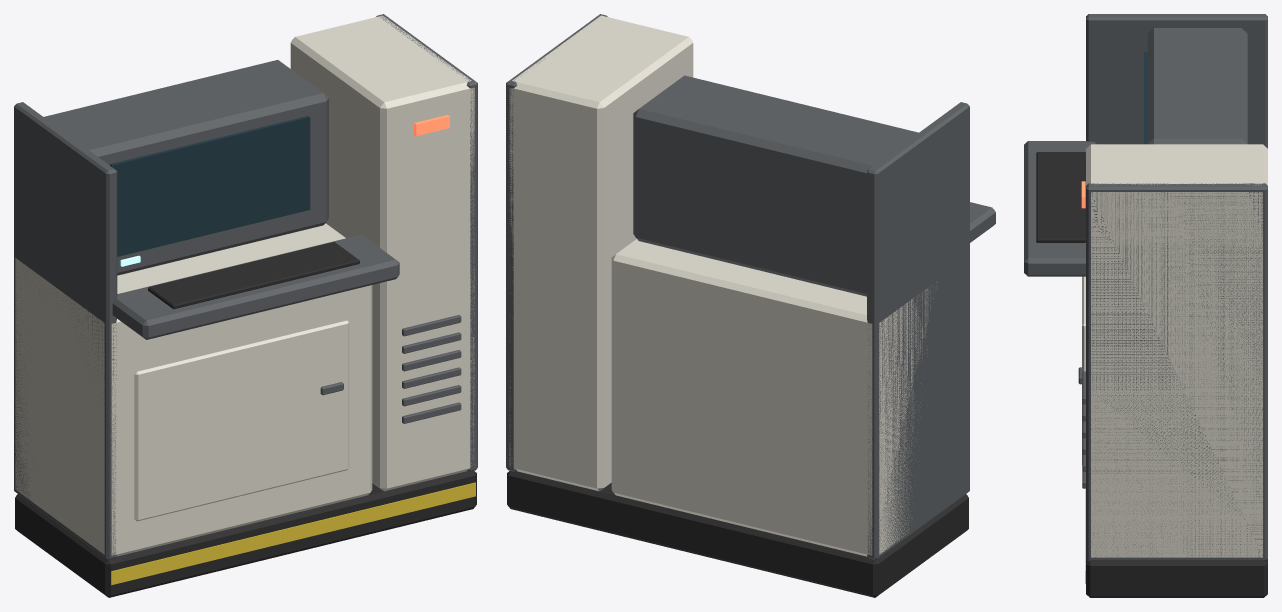
Rendered from console_1000.glb.
3 views of the same model, side by side, from view 1: azimuth 30°, elevation 25°; view 2: azimuth 150°, elevation 25°; view 3: azimuth 270°, elevation 25° (orthographic). The views are drawn at different scales.
Parts seen in each view (by area): view 1: console_1000; view 2: console_1000; view 3: console_1000.
Part boxes in pixels (x1,y1,x2,y2): console_1000: (14, 14, 477, 597); console_1000: (506, 14, 995, 597); console_1000: (1024, 14, 1267, 597).
Bounding box in the file's own units: 1 × 1.1 × 0.59.
